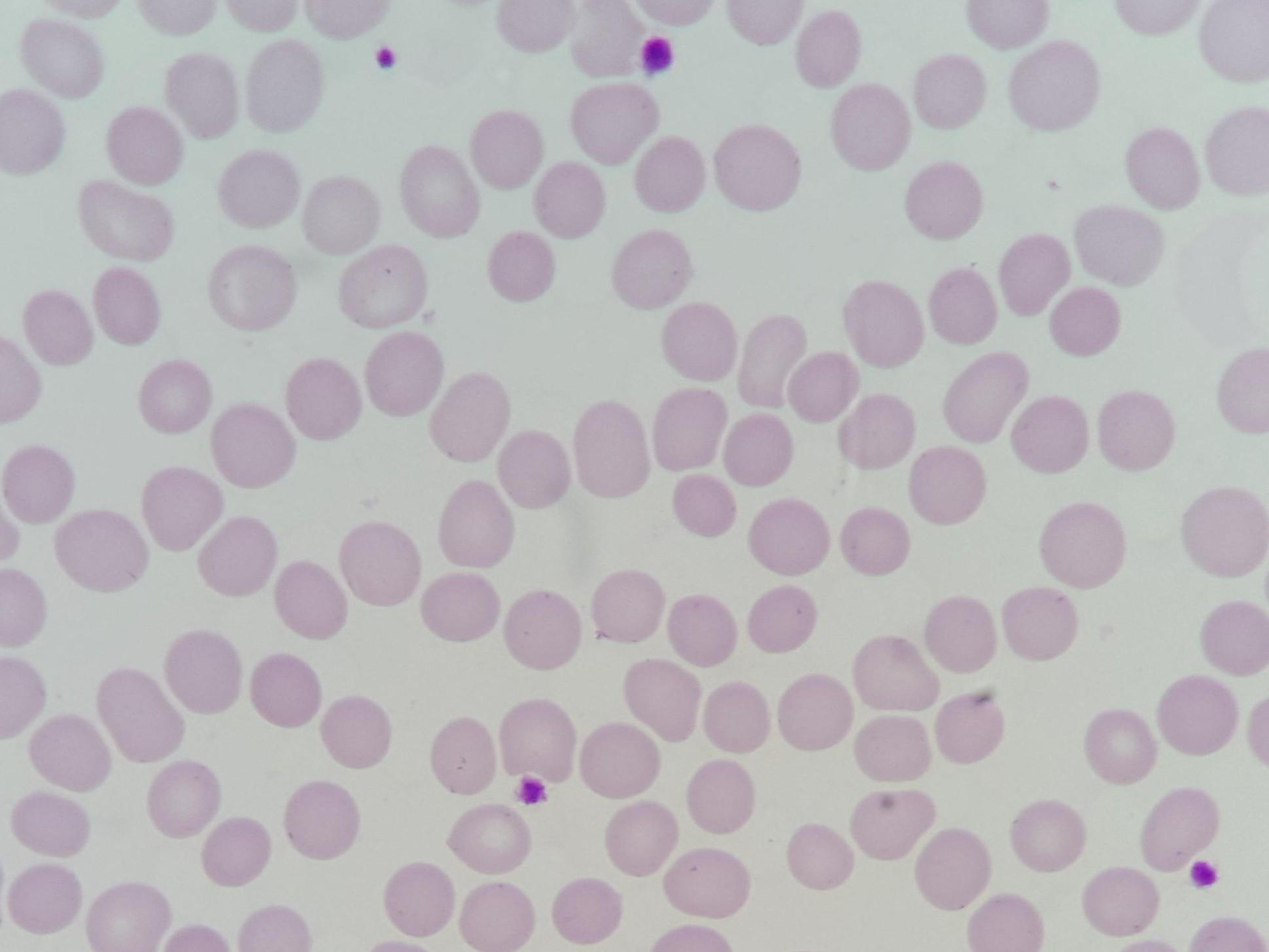Uninfected: (206, 243, 299, 335), (78, 175, 175, 263), (1011, 40, 1098, 129), (98, 673, 185, 760), (1073, 203, 1163, 287), (943, 352, 1025, 444), (713, 127, 800, 212), (1183, 488, 1268, 575), (571, 84, 660, 167), (57, 516, 151, 594), (166, 49, 242, 144), (574, 403, 650, 497), (244, 42, 322, 133), (1038, 504, 1122, 588), (427, 376, 508, 463), (400, 146, 477, 237), (208, 407, 293, 489), (146, 470, 227, 555), (341, 249, 426, 330), (285, 356, 365, 442), (29, 714, 116, 793), (18, 23, 108, 99), (440, 478, 515, 569), (847, 282, 924, 370), (166, 633, 247, 715), (610, 229, 692, 310), (854, 636, 940, 713), (835, 84, 910, 172), (750, 497, 833, 576), (342, 524, 420, 608), (624, 658, 700, 743), (1144, 787, 1220, 872), (366, 335, 444, 417), (1158, 675, 1236, 757), (218, 151, 299, 229), (497, 700, 578, 778), (739, 317, 806, 411), (654, 391, 731, 472), (305, 176, 380, 259), (88, 267, 162, 351), (911, 444, 986, 526), (202, 516, 277, 597), (452, 802, 533, 877), (1099, 390, 1173, 472), (906, 163, 983, 241), (139, 362, 215, 440), (838, 395, 916, 471), (284, 782, 358, 862), (856, 790, 936, 864), (918, 830, 991, 911), (106, 111, 184, 186), (580, 722, 658, 797), (417, 573, 498, 645), (532, 159, 603, 241), (1013, 398, 1089, 474), (506, 592, 579, 671), (386, 862, 459, 941), (663, 852, 749, 919), (5, 447, 77, 527), (1200, 0, 1269, 83), (0, 90, 65, 178), (605, 802, 679, 879), (250, 652, 323, 730), (664, 304, 737, 382), (999, 235, 1071, 314), (1126, 130, 1197, 210), (780, 675, 855, 750), (923, 596, 996, 673), (633, 136, 705, 213), (23, 290, 94, 368), (92, 882, 171, 952), (458, 882, 537, 952), (1087, 706, 1156, 786), (1087, 866, 1161, 940), (1003, 586, 1076, 661), (928, 269, 999, 346), (500, 431, 569, 509), (591, 572, 665, 644), (1014, 799, 1086, 873), (472, 114, 542, 190), (1200, 600, 1267, 678), (278, 562, 344, 641), (10, 864, 83, 935), (1208, 111, 1269, 195), (669, 595, 738, 669), (723, 415, 794, 486), (687, 762, 755, 836), (146, 766, 217, 836), (788, 354, 859, 423), (916, 55, 983, 128), (10, 797, 92, 856), (201, 821, 270, 891), (936, 694, 1005, 764), (796, 14, 862, 87), (488, 231, 554, 304), (854, 717, 929, 781), (429, 718, 492, 794), (703, 681, 771, 751), (748, 586, 816, 654), (496, 1, 580, 55), (551, 879, 618, 946), (1052, 288, 1119, 355), (1215, 347, 1269, 430), (325, 698, 388, 768), (967, 894, 1043, 952), (842, 509, 908, 574), (788, 824, 852, 891), (967, 0, 1047, 53), (671, 477, 735, 538), (0, 567, 45, 652), (0, 664, 48, 742), (726, 0, 804, 46), (240, 904, 310, 952), (227, 692, 228, 692)
